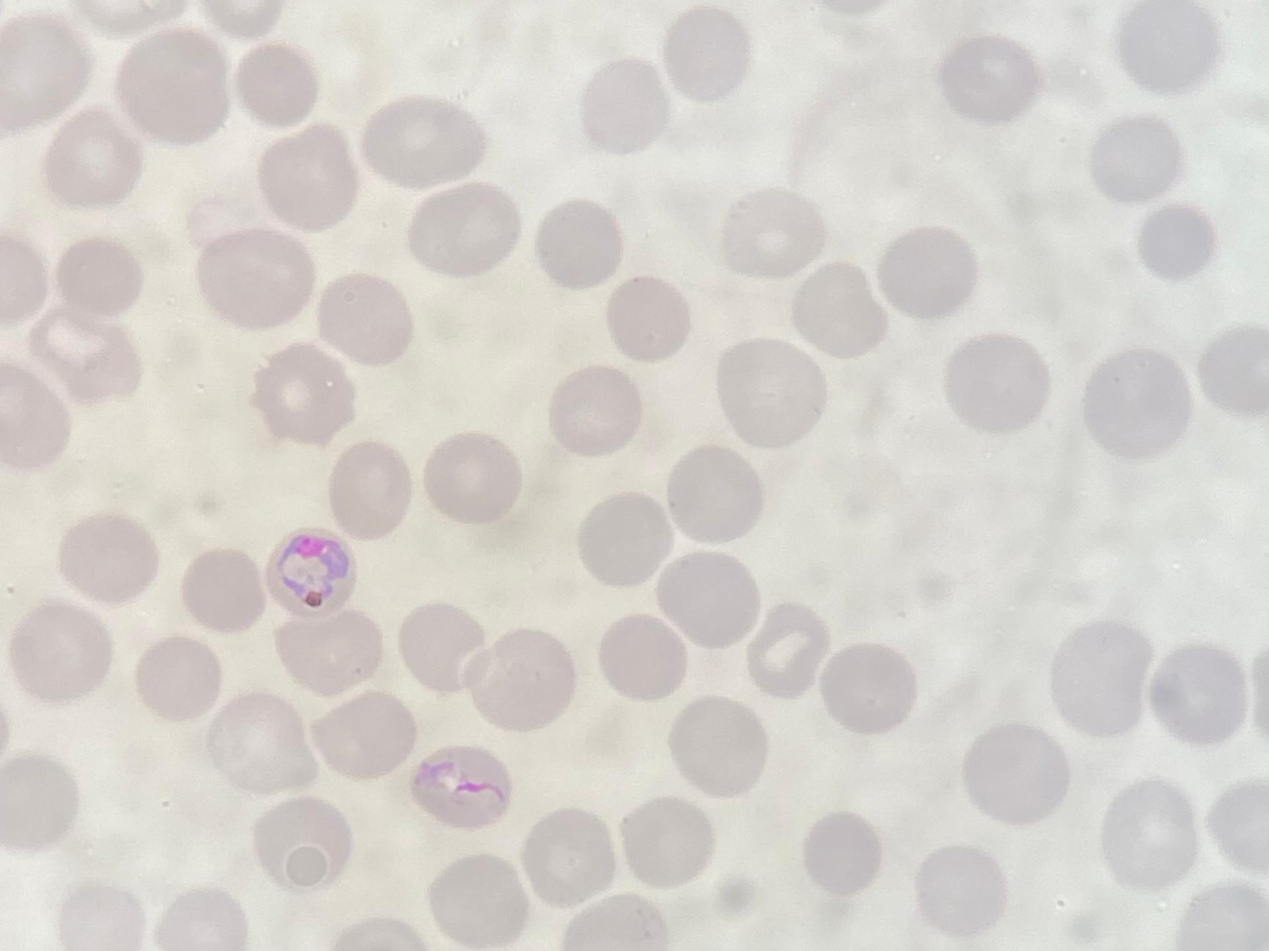Infected: (269, 522, 357, 613)
Uninfected: (114, 25, 231, 146), (1047, 622, 1153, 738), (197, 227, 315, 330), (1080, 348, 1190, 457), (714, 338, 824, 446), (361, 95, 487, 188), (942, 332, 1050, 435), (466, 629, 575, 730), (406, 182, 521, 277), (961, 722, 1067, 823), (0, 20, 93, 135), (256, 124, 358, 228), (9, 601, 113, 703), (250, 344, 355, 444), (204, 693, 311, 791), (655, 547, 759, 647), (251, 795, 353, 894), (665, 443, 765, 543), (1148, 642, 1246, 744), (55, 512, 159, 608), (1100, 780, 1195, 885), (308, 689, 414, 783), (406, 741, 513, 833), (719, 188, 827, 278), (666, 696, 765, 794), (817, 641, 919, 736), (422, 432, 525, 525), (44, 110, 143, 206), (275, 610, 383, 698), (426, 853, 527, 946), (876, 226, 978, 318), (1114, 1, 1217, 92), (576, 491, 673, 586), (791, 259, 889, 353), (522, 809, 617, 904), (619, 794, 715, 888), (397, 601, 489, 695), (939, 35, 1040, 120), (913, 845, 1007, 936), (319, 276, 414, 365), (578, 59, 668, 152), (548, 365, 641, 454), (744, 605, 832, 699), (1088, 116, 1181, 204), (327, 441, 414, 535), (663, 7, 751, 99), (597, 614, 689, 702), (1, 359, 74, 469), (0, 751, 81, 849), (535, 200, 625, 287), (605, 274, 693, 362), (234, 42, 323, 128), (179, 547, 266, 634), (134, 635, 222, 720), (800, 810, 884, 897), (59, 238, 144, 313), (1197, 323, 1267, 414), (1136, 202, 1217, 279), (154, 888, 248, 950), (1206, 779, 1267, 873), (57, 882, 142, 949)
